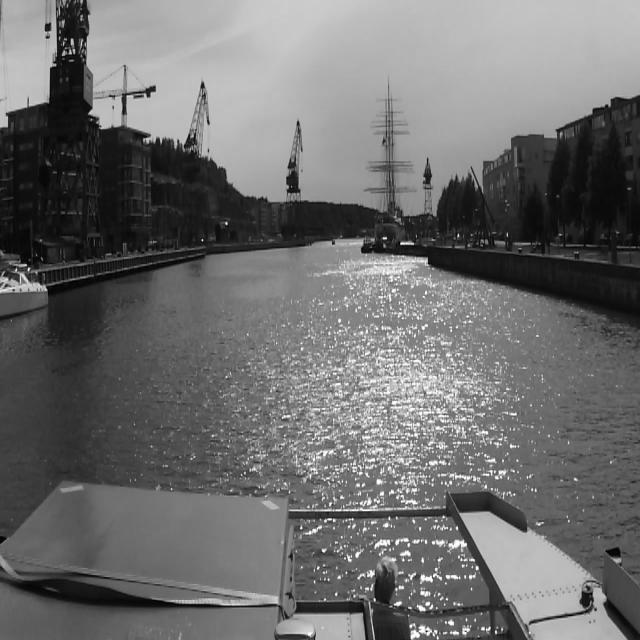ship: (363, 69, 417, 242), (330, 238, 336, 246)
